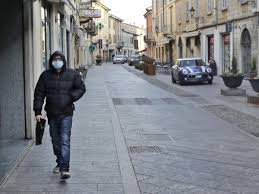mask: (45, 45, 67, 70)
